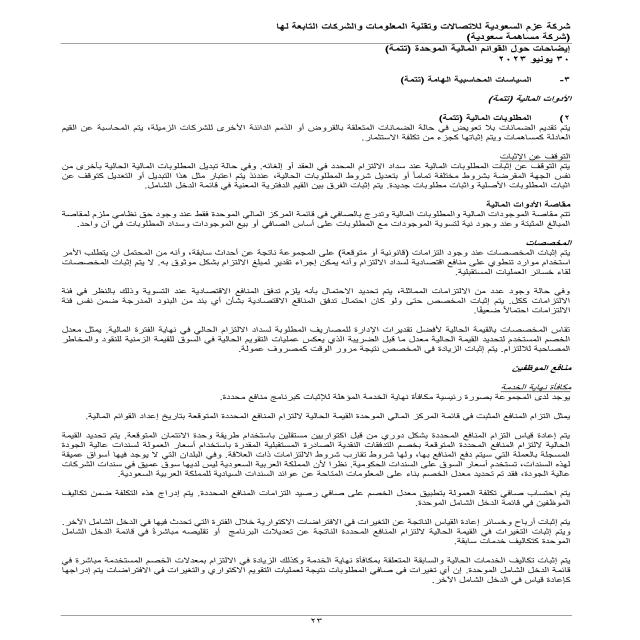notes: (382, 44, 581, 54)
text: (26, 68, 590, 594)
